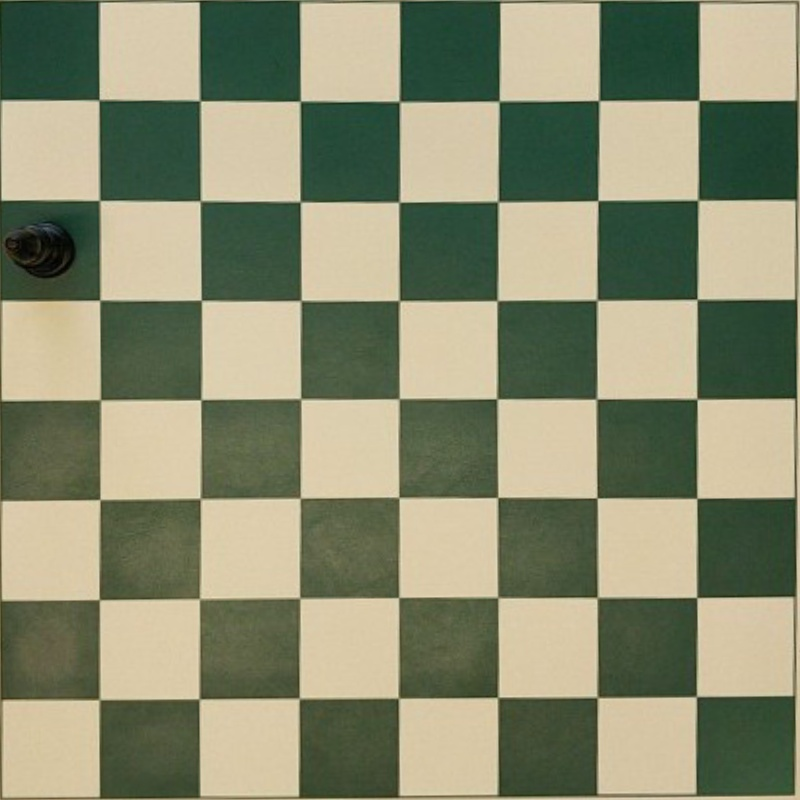black-bishop: (2, 222, 74, 277)
